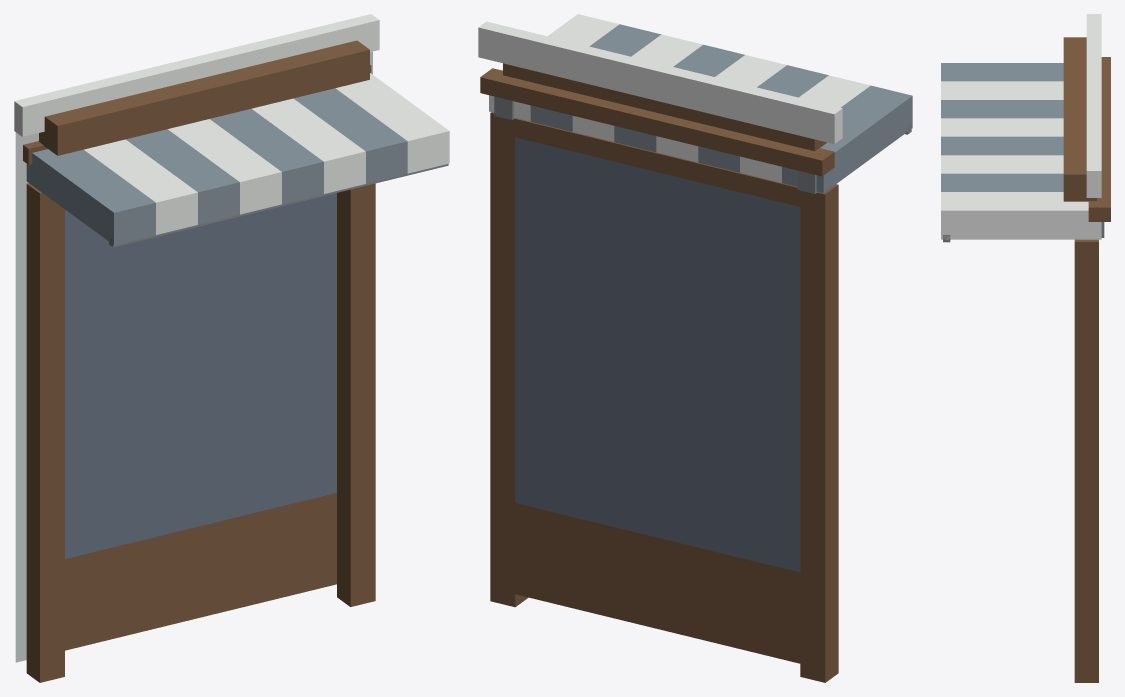
Rendered from Shopfront.glb.
The picture shows the model from 3 angles, left to right: view 1: azimuth 30°, elevation 25°; view 2: azimuth 150°, elevation 25°; view 3: azimuth 270°, elevation 25°; orthographic projection. The views are drawn at different scales.
Visible parts, largest first — view 1: PBK_glass.001, PBK_Continuous_Frame_Modern_Shopfront.003, PBK_glass.011_Frame_Base20.001, PBK_signboard.001, PBK_floor_band.048, PBK_awning_stripe.001, PBK_Modern_Shopfront_Exterior_Surface.001, PBK_awning_stripe.008, PBK_awning_stripe.005, PBK_awning_stripe.002, PBK_awning_stripe.004, PBK_awning_stripe.007 (+3 smaller); view 2: PBK_glass.001, PBK_Continuous_Frame_Modern_Shopfront.003, PBK_glass.011_Frame_Base20.001, PBK_floor_band.048, PBK_awning_wall_mount.003, PBK_awning_stripe.001, PBK_signboard.001, PBK_awning_stripe.004, PBK_awning_stripe.007, PBK_awning_stripe.005, PBK_awning_stripe.006, PBK_awning_stripe.002 (+2 smaller); view 3: PBK_Continuous_Frame_Modern_Shopfront.003, PBK_awning_stripe.008, PBK_signboard.001, PBK_floor_band.048, PBK_awning_stripe.005, PBK_awning_stripe.001, PBK_awning_stripe.002, PBK_awning_stripe.003, PBK_awning_stripe.004, PBK_awning_stripe.006, PBK_awning_stripe.007, PBK_awning_wall_mount.003.
Boxes of the visible parts, bbox=[...] form: PBK_glass.001: bbox=[65, 193, 336, 558]; PBK_Continuous_Frame_Modern_Shopfront.003: bbox=[26, 183, 375, 682]; PBK_glass.011_Frame_Base20.001: bbox=[65, 493, 336, 650]; PBK_signboard.001: bbox=[39, 40, 369, 155]; PBK_floor_band.048: bbox=[14, 14, 379, 136]; PBK_awning_stripe.001: bbox=[26, 149, 155, 245]; PBK_Modern_Shopfront_Exterior_Surface.001: bbox=[15, 51, 372, 662]; PBK_awning_stripe.008: bbox=[335, 73, 449, 173]; PBK_awning_stripe.005: bbox=[210, 108, 323, 204]; PBK_awning_stripe.002: bbox=[84, 139, 197, 234]; PBK_awning_stripe.004: bbox=[168, 119, 281, 214]; PBK_awning_stripe.007: bbox=[293, 88, 407, 183]; PBK_glass.001: bbox=[515, 137, 800, 572]; PBK_Continuous_Frame_Modern_Shopfront.003: bbox=[490, 112, 838, 682]; PBK_glass.011_Frame_Base20.001: bbox=[515, 503, 800, 663]; PBK_floor_band.048: bbox=[478, 21, 842, 143]; PBK_awning_wall_mount.003: bbox=[480, 68, 834, 176]; PBK_awning_stripe.001: bbox=[782, 85, 912, 192]; PBK_signboard.001: bbox=[503, 63, 826, 151]; PBK_awning_stripe.004: bbox=[656, 55, 786, 162]; PBK_awning_stripe.007: bbox=[530, 24, 661, 131]; PBK_awning_stripe.005: bbox=[614, 44, 744, 151]; PBK_awning_stripe.006: bbox=[572, 34, 702, 141]; PBK_awning_stripe.002: bbox=[740, 75, 870, 182]; PBK_Continuous_Frame_Modern_Shopfront.003: bbox=[1074, 239, 1098, 682]; PBK_awning_stripe.008: bbox=[941, 192, 1101, 239]; PBK_signboard.001: bbox=[1063, 37, 1096, 201]; PBK_floor_band.048: bbox=[1086, 14, 1101, 197]; PBK_awning_stripe.005: bbox=[941, 136, 1063, 155]; PBK_awning_stripe.001: bbox=[941, 63, 1063, 81]; PBK_awning_stripe.002: bbox=[941, 81, 1063, 99]; PBK_awning_stripe.003: bbox=[941, 100, 1063, 118]; PBK_awning_stripe.004: bbox=[941, 118, 1063, 136]; PBK_awning_stripe.006: bbox=[941, 155, 1063, 173]; PBK_awning_stripe.007: bbox=[941, 173, 1063, 191]; PBK_awning_wall_mount.003: bbox=[1088, 57, 1110, 221].
Size of the model in its own units: 2 by 3.07 by 0.915.
